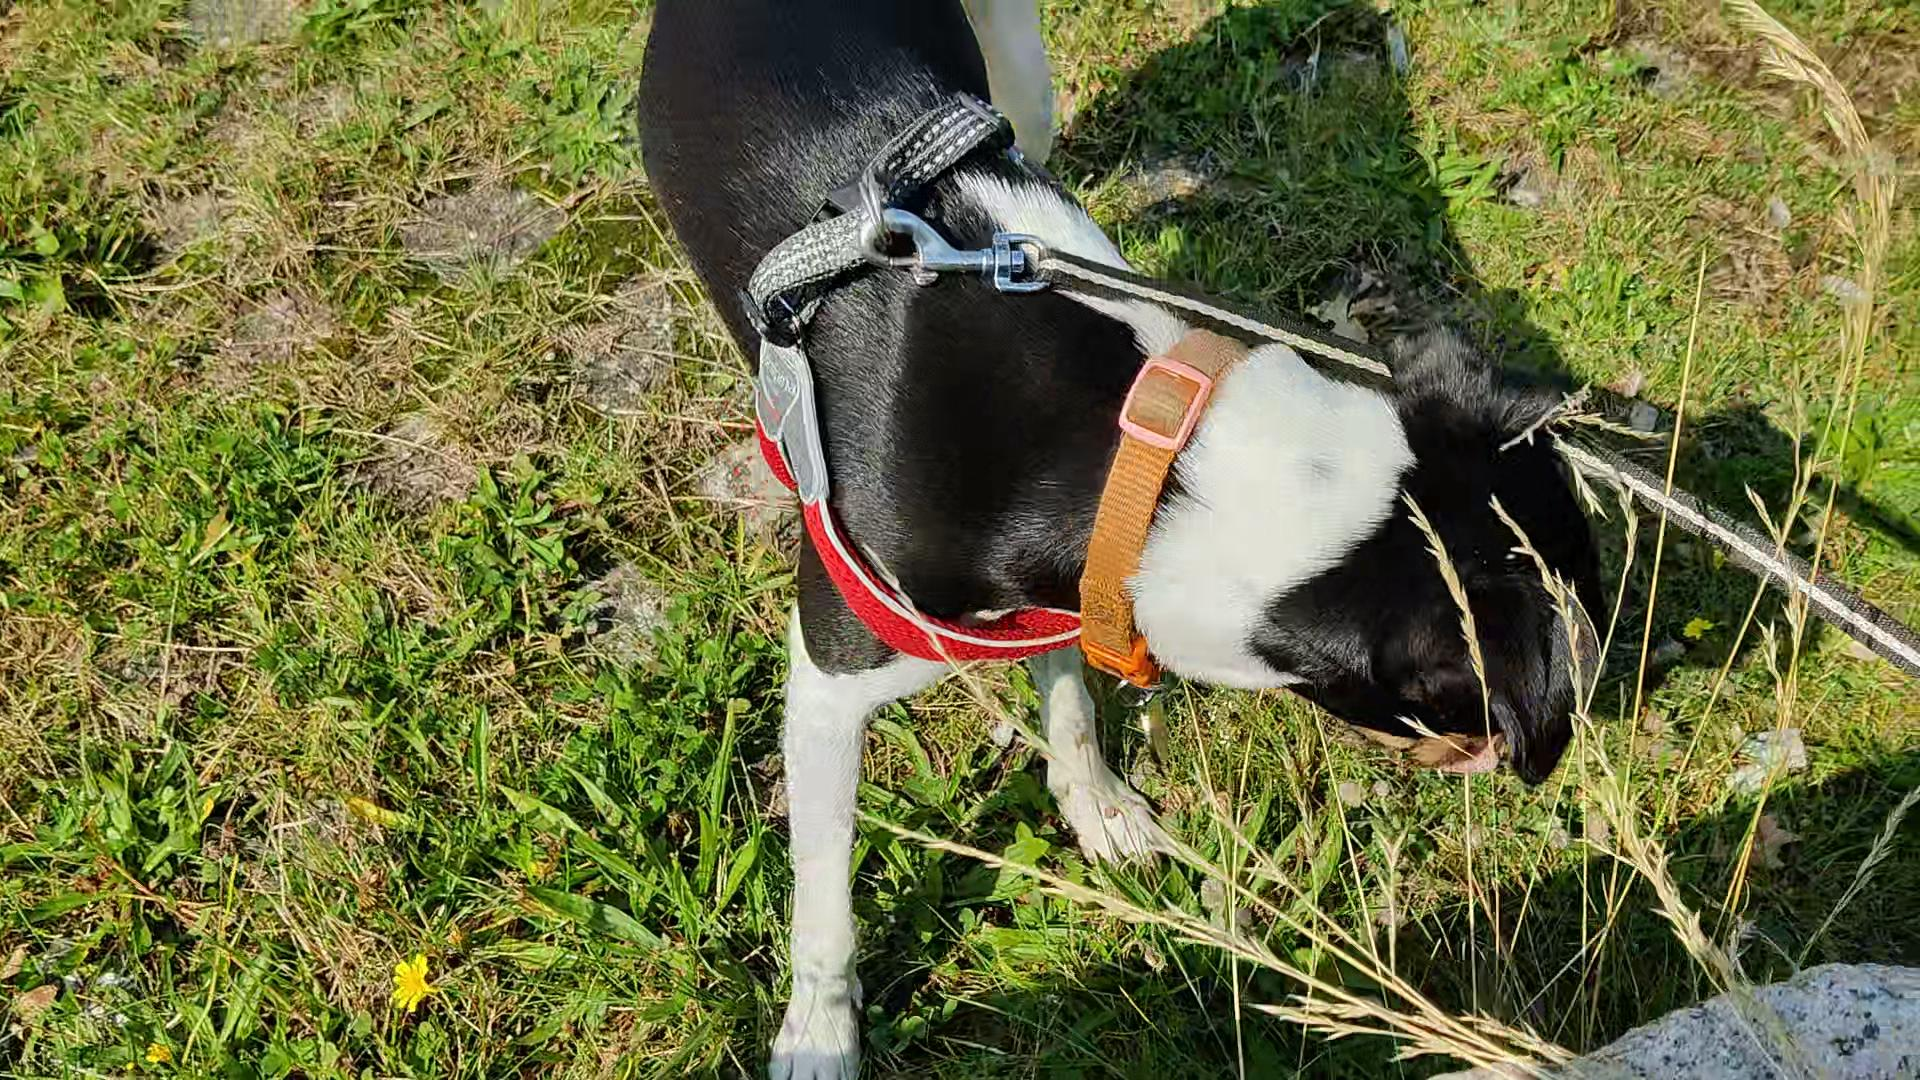Dog: (626, 0, 1619, 1079)
